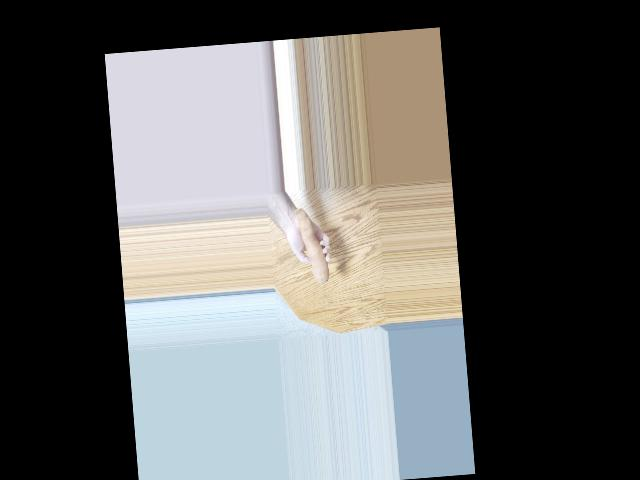sweet_potato: (297, 209, 331, 287)
